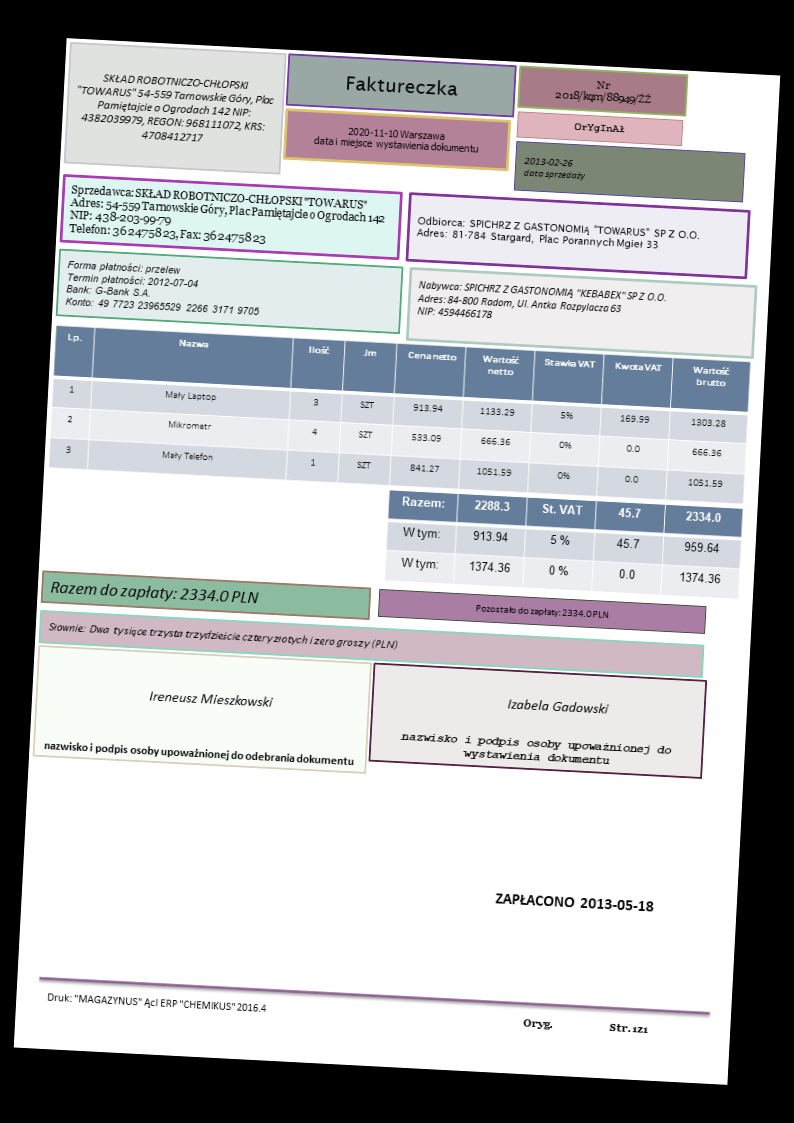Table: (47, 324, 753, 504), (382, 488, 745, 601)
TextBox: (66, 181, 390, 252), (72, 68, 280, 151), (414, 276, 671, 331), (412, 211, 703, 255), (62, 256, 265, 319), (47, 618, 399, 653), (397, 728, 675, 771), (41, 735, 356, 770), (47, 575, 261, 609), (45, 988, 268, 1018), (311, 123, 483, 156), (490, 888, 659, 915), (552, 74, 654, 109), (145, 685, 275, 712), (472, 599, 614, 621), (520, 1015, 652, 1038), (343, 73, 459, 99), (504, 693, 612, 719), (521, 154, 589, 185), (571, 119, 626, 138)
